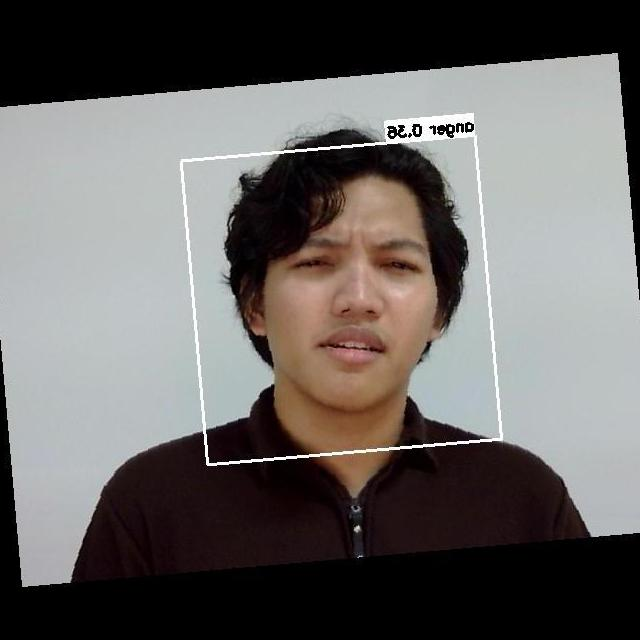Sad: (258, 207, 448, 386)
